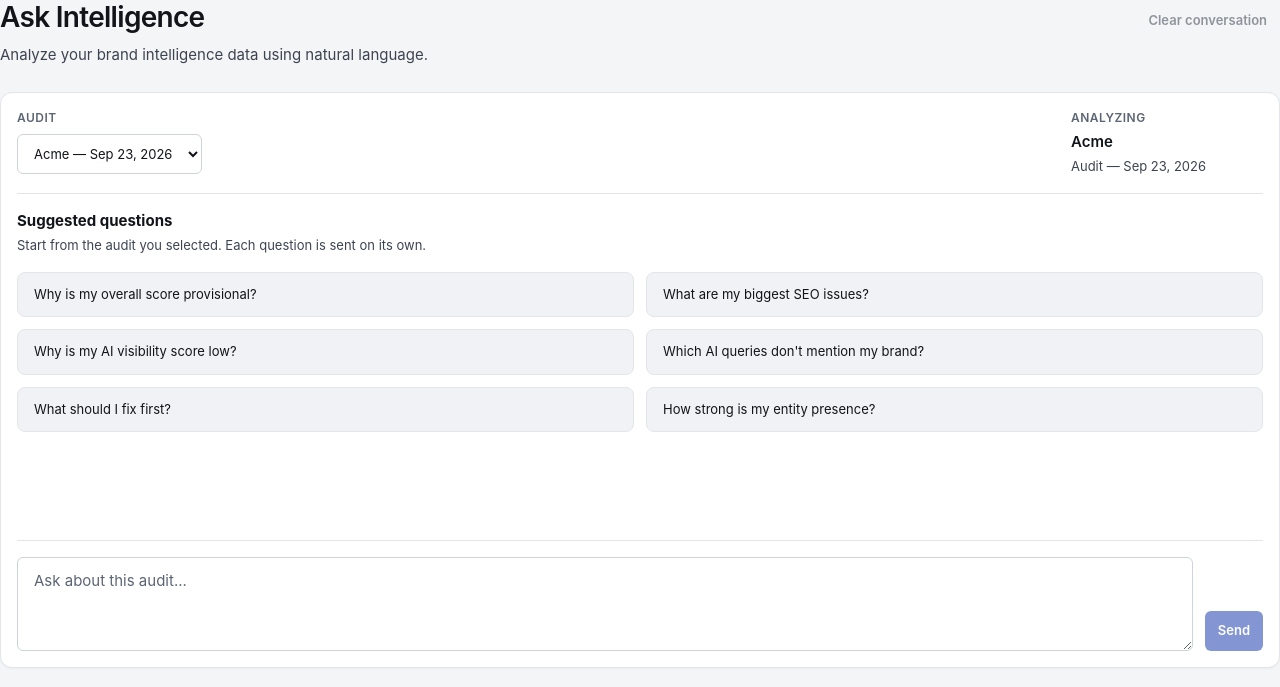
IntelligenceChatComponent › keeps the question and retries after an error
Type "What should I fix first?" into the text box with id "ask-question" at [605, 604], box [17,557,1193,651]
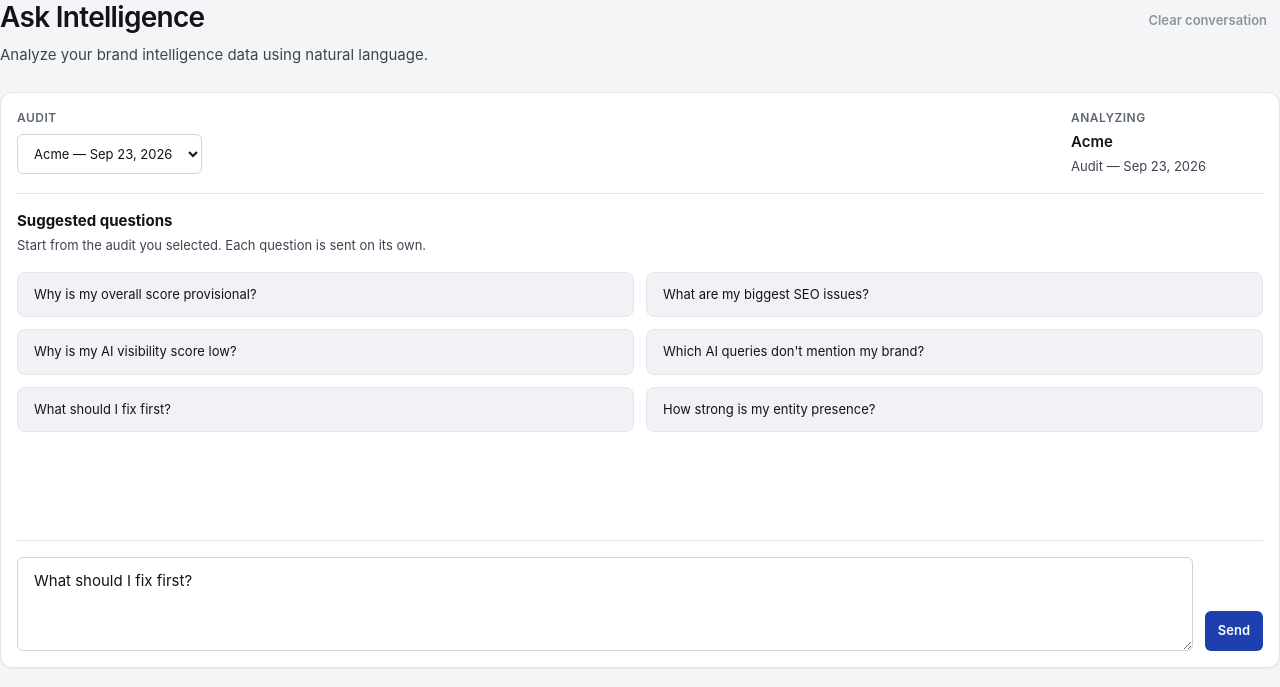
Click the button "Send" at [1234, 631], box [1205,611,1263,651]
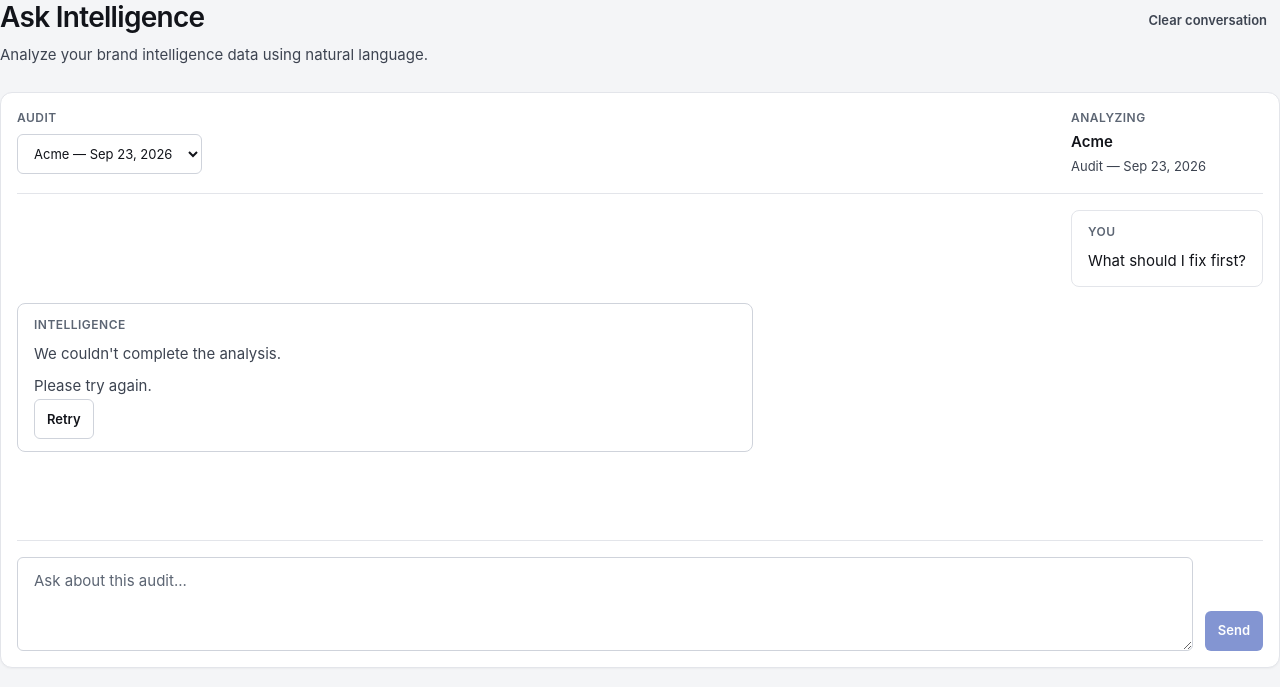
Expected: the text "What should I fix first?" is shown, [1088,249,1246,274]
Result: the text "We couldn't complete the analysis." is shown at [34,344,281,362]
Result: the text "Please try again." is shown at [34,376,152,395]
Click the button "Retry" at [64, 419], box [34,399,94,439]
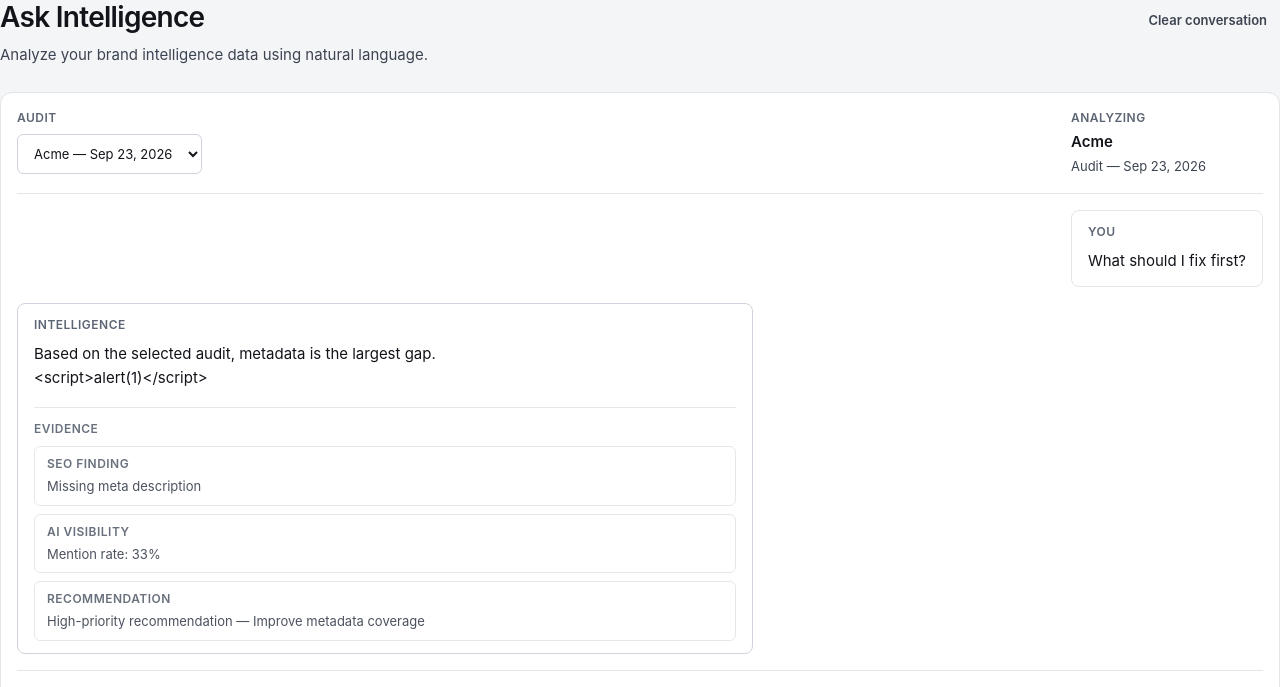
Expected: the text "What should I fix first?" is shown, [1088,249,1246,274]
Result: the text "Based on the selected audit" is shown at [34,344,436,387]
Result: the text "We couldn't complete the analysis." is gone
